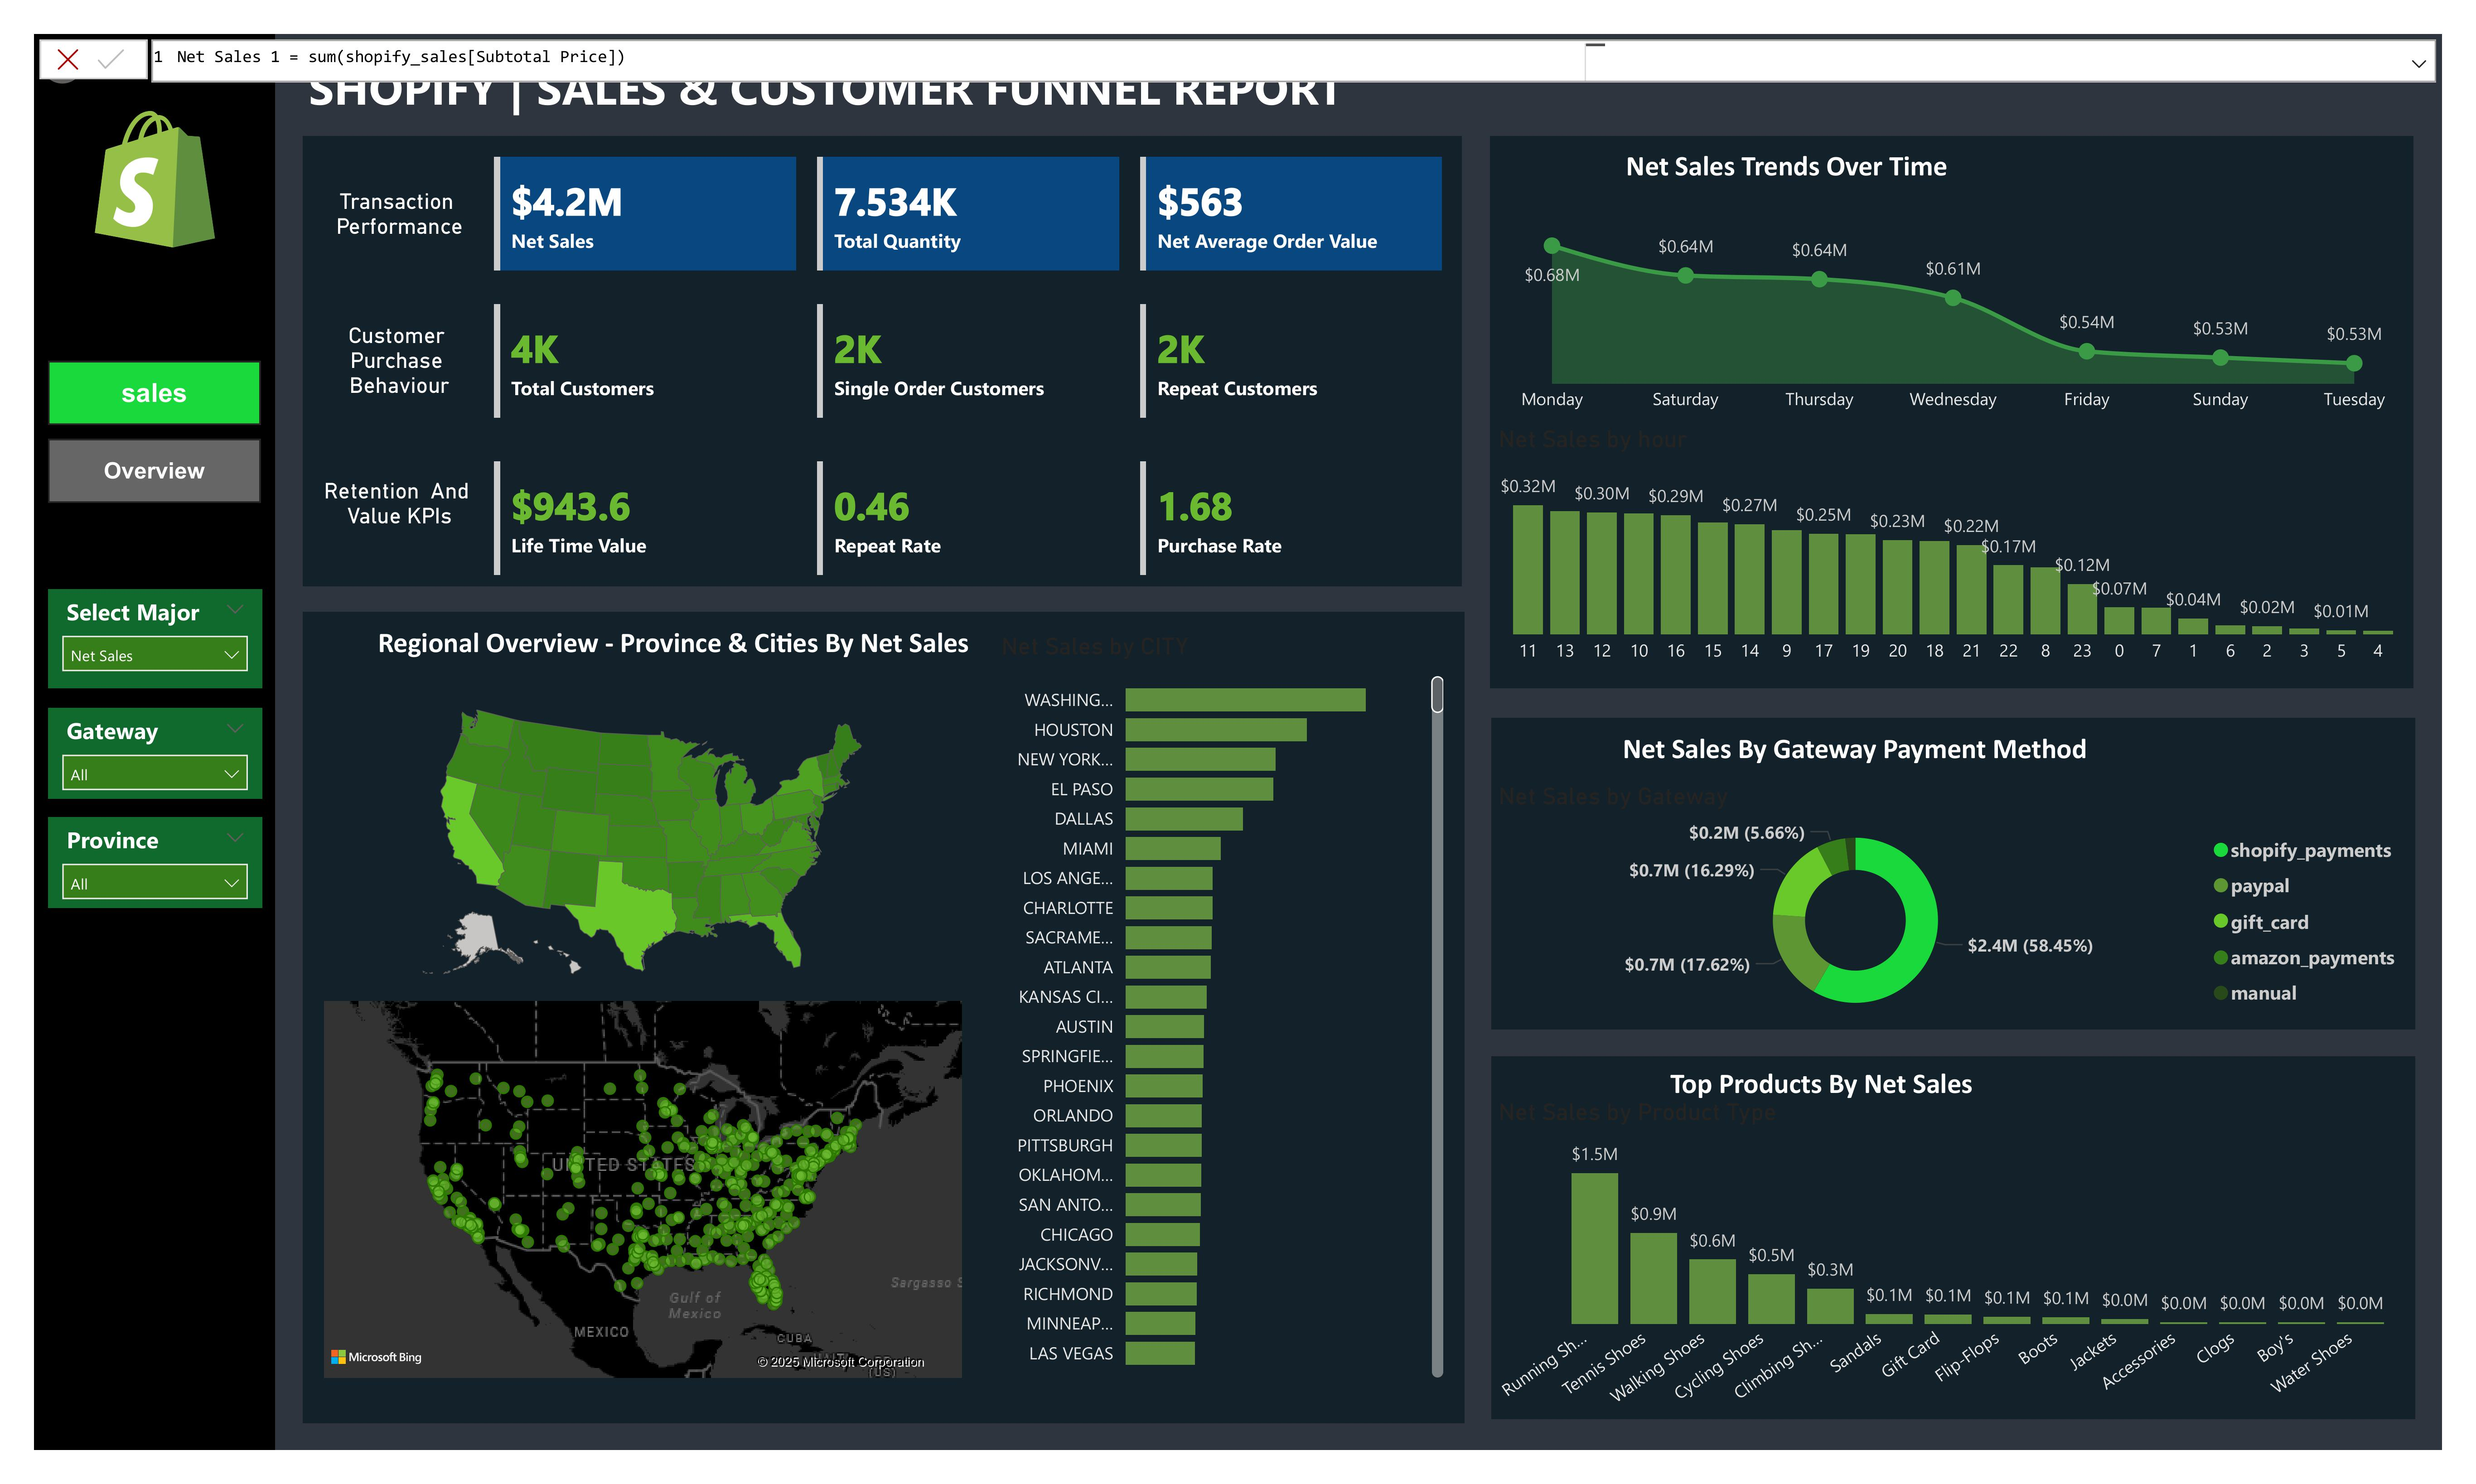

The page's visual inventory and layout, read from the dashboard file:
{"tool":"powerbi","page":{"name":"sales","canvas":[1700,1000],"ordinal":0},"visuals":[{"type":"shape","box":[0,0,170,1000.3],"z":0},{"type":"textbox","box":[189.3,10,767.4,55],"z":1000},{"type":"shape","box":[190,72,818,318],"z":2000},{"type":"cardVisual","fields":{"Data":["Measures_Table_1.Net Sales","Measures_Table_1.Total Quantity","Measures_Table_1.Net Average Order Value"]},"box":[320,82.1,680.3,90.5],"z":3000},{"type":"card","fields":{"Values":["Measures_Table_1.kpi 1 Text"]},"box":[192.7,82.1,130.7,90.5],"z":4000},{"type":"cardVisual","fields":{"Data":["Measures_Table_1.Total Customers","Measures_Table_1.Single Order Customers","Measures_Table_1.Multiple Orders"]},"box":[320,186,680.3,90.5],"z":5000},{"type":"cardVisual","fields":{"Data":["Measures_Table_1.Life Time Value","Measures_Table_1.Repeat Rate","Measures_Table_1.Purchase Rate"]},"box":[320,296.6,680.3,90.5],"z":6000},{"type":"actionButton","box":[0,0,100,40],"z":7000},{"type":"card","fields":{"Values":["Measures_Table_1.Customer Purchase Behaviour"]},"box":[192.7,186,130.7,90.5],"z":8000},{"type":"card","fields":{"Values":["Measures_Table_1.Retention  And Value KPIs"]},"box":[192.7,286.5,130.7,90.5],"z":9000},{"type":"shape","box":[190,408,820,573.3],"z":10000},{"type":"slicer","fields":{"Values":["Select Major.Select Major"]},"box":[10.1,392.1,150.8,70.4],"z":11000},{"type":"shapeMap","fields":{"Category":["shopify_sales.Billing Address Province"],"Value":["Measures_Table_1.Net Sales"]},"box":[199.4,462.5,460.8,216.2],"z":12000},{"type":"map","fields":{"Category":["shopify_sales.Granular Locations"]},"box":[200,678,460,276],"z":13000},{"type":"clusteredBarChart","fields":{"Y":["Measures_Table_1.Net Sales"],"Category":["shopify_sales.CITY"]},"box":[678,422,322,532],"z":14000},{"type":"shape","box":[1028,72,652,390],"z":15000},{"type":"areaChart","fields":{"Y":["Measures_Table_1.Net Sales"],"Category":["shopify_sales.Day Name"]},"box":[1028.8,127.3,651.8,149.1],"z":16000},{"type":"columnChart","fields":{"Y":["Measures_Table_1.Net Sales"],"Category":["shopify_sales.hour"]},"box":[1028.8,276.5,651.8,177.6],"z":17000},{"type":"shape","box":[1028.8,483,651.8,219.5],"z":18000},{"type":"donutChart","fields":{"Y":["Measures_Table_1.Net Sales"],"Category":["shopify_sales.Gateway"]},"box":[1028.8,527.8,651.8,177.6],"z":19000},{"type":"shape","box":[1028.8,722,651.8,256.4],"z":20000},{"type":"columnChart","fields":{"Y":["Measures_Table_1.Net Sales"],"Category":["shopify_sales.Product Type"]},"box":[1028.8,750.7,651.8,229.6],"z":21000},{"type":"slicer","fields":{"Values":["shopify_sales.Gateway"]},"box":[10.1,475.9,150.8,63.7],"z":22000},{"type":"slicer","fields":{"Values":["shopify_sales.Billing Address Province"]},"box":[10.1,553,150.8,63.7],"z":23000},{"type":"pageNavigator","box":[10.1,231.2,150.8,100.5],"z":24000},{"type":"card","fields":{"Values":["Measures_Table_1.Main Heading"]},"box":[189.3,407.2,524.5,46.9],"z":25000},{"type":"card","fields":{"Values":["Select Major.Day Heading"]},"box":[1028.8,72.1,417.2,43.6],"z":26000},{"type":"card","fields":{"Values":["Select Major.Donut Chart Heading"]},"box":[1028.8,482.6,512.7,45.2],"z":27000},{"type":"card","fields":{"Values":["Select Major.Product TYpe  Heading"]},"box":[1028.8,722.2,465.8,40.2],"z":28000},{"type":"image","box":[33.5,48.6,103.9,107.2],"z":29000}]}

Visuals, with their boxes on the page's 1700x1000 design canvas (x1, y1, x2, y2). These are canvas units, not pixel positions in the 2476x1484 screenshot, which may show the page scaled, cropped or inside an application window:
shape: (0,0,170,1000)
textbox: (189,10,957,65)
shape: (190,72,1008,390)
cardVisual - Measures_Table_1.Net Sales x Measures_Table_1.Total Quantity: (320,82,1000,173)
card - Measures_Table_1.kpi 1 Text: (193,82,323,173)
cardVisual - Measures_Table_1.Total Customers x Measures_Table_1.Single Order Customers: (320,186,1000,276)
cardVisual - Measures_Table_1.Life Time Value x Measures_Table_1.Repeat Rate: (320,297,1000,387)
actionButton: (0,0,100,40)
card - Measures_Table_1.Customer Purchase Behaviour: (193,186,323,276)
card - Measures_Table_1.Retention  And Value KPIs: (193,286,323,377)
shape: (190,408,1010,981)
slicer - Select Major.Select Major: (10,392,161,462)
shapeMap - shopify_sales.Billing Address Province x Measures_Table_1.Net Sales: (199,462,660,679)
map - shopify_sales.Granular Locations: (200,678,660,954)
clusteredBarChart - Measures_Table_1.Net Sales x shopify_sales.CITY: (678,422,1000,954)
shape: (1028,72,1680,462)
areaChart - Measures_Table_1.Net Sales x shopify_sales.Day Name: (1029,127,1681,276)
columnChart - Measures_Table_1.Net Sales x shopify_sales.hour: (1029,276,1681,454)
shape: (1029,483,1681,702)
donutChart - Measures_Table_1.Net Sales x shopify_sales.Gateway: (1029,528,1681,705)
shape: (1029,722,1681,978)
columnChart - Measures_Table_1.Net Sales x shopify_sales.Product Type: (1029,751,1681,980)
slicer - shopify_sales.Gateway: (10,476,161,540)
slicer - shopify_sales.Billing Address Province: (10,553,161,617)
pageNavigator: (10,231,161,332)
card - Measures_Table_1.Main Heading: (189,407,714,454)
card - Select Major.Day Heading: (1029,72,1446,116)
card - Select Major.Donut Chart Heading: (1029,483,1542,528)
card - Select Major.Product TYpe  Heading: (1029,722,1495,762)
image: (34,49,137,156)
